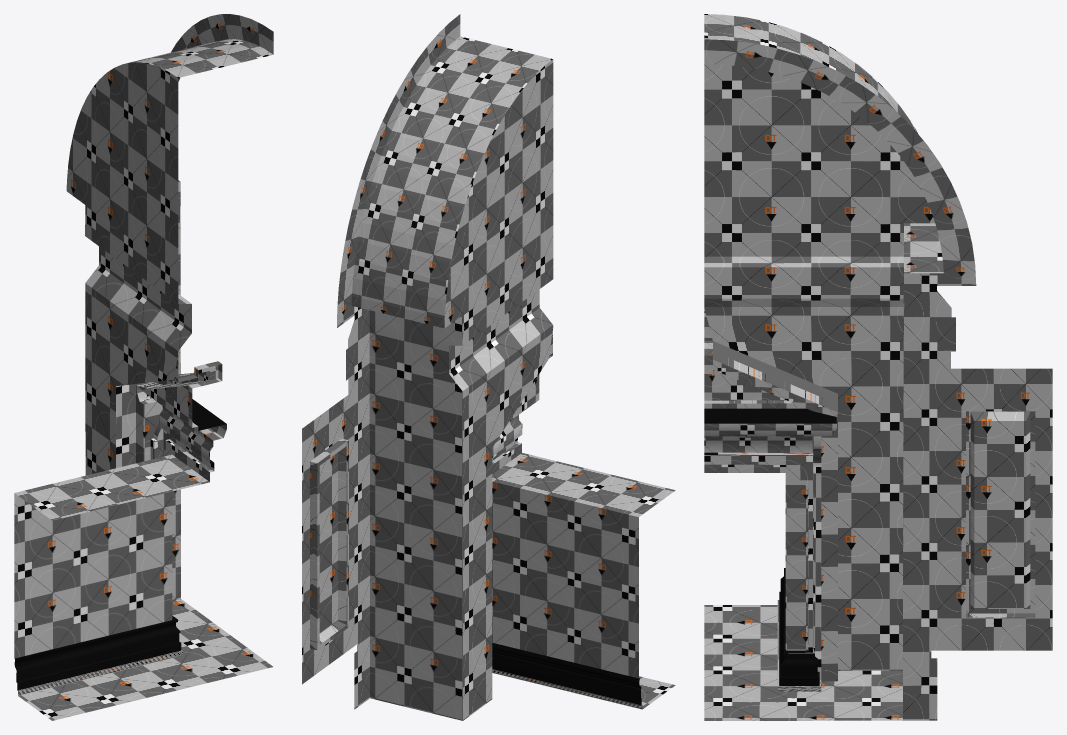
The model's file is Dor.obj.
The picture shows the model from 3 angles, left to right: view 1: azimuth 30°, elevation 25°; view 2: azimuth 150°, elevation 25°; view 3: azimuth 270°, elevation 25°; orthographic projection. The views are drawn at different scales.
Bounding box in the file's own units: 0.571 × 1.57 × 0.7254.
Materials: 1 (1 with a texture image).
